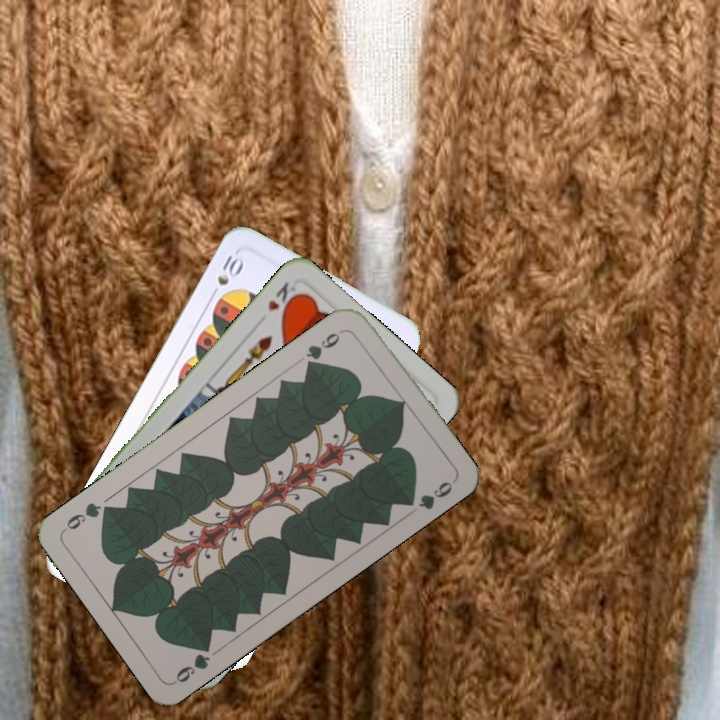G9: (301, 325, 348, 371), (170, 637, 214, 686)
HK: (263, 278, 302, 317)
S10: (213, 248, 247, 289)
